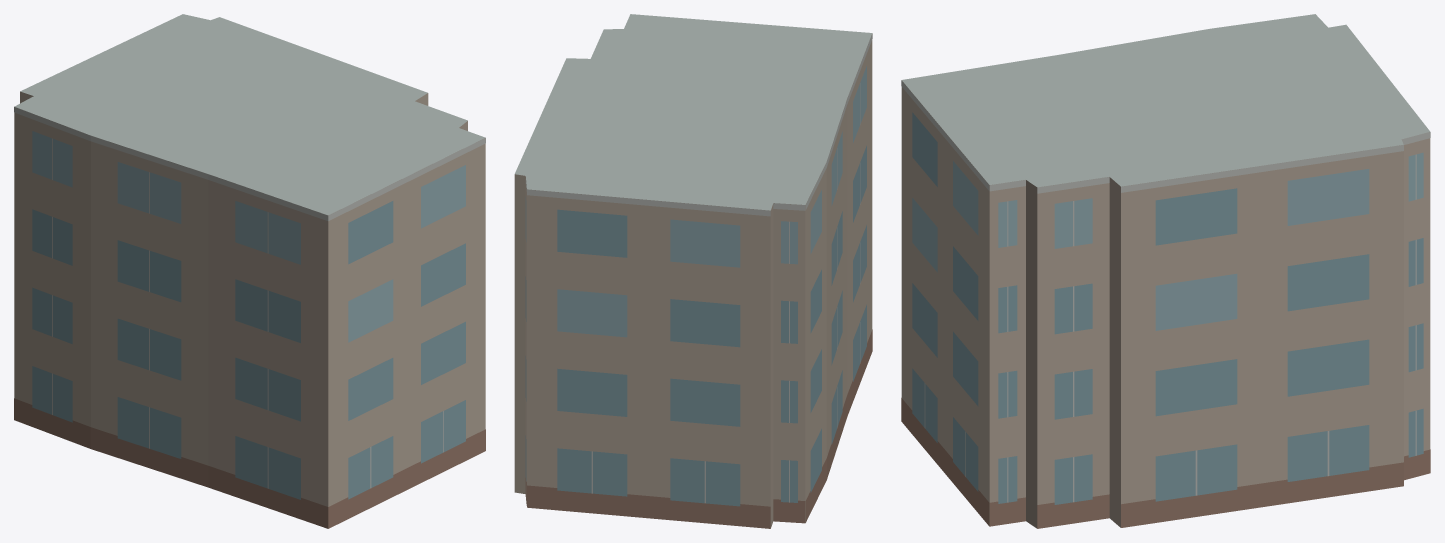
Rendered from survey-upis-32631963.glb.
3 views of the same model, side by side, from view 1: azimuth 30°, elevation 25°; view 2: azimuth 150°, elevation 25°; view 3: azimuth 270°, elevation 25° (orthographic). The views are drawn at different scales.
Parts seen in each view (by area): view 1: survey-upis-32631963.tmp; view 2: survey-upis-32631963.tmp; view 3: survey-upis-32631963.tmp.
Boxes of the visible parts, x1,y1,x2,y2 form: survey-upis-32631963.tmp: (14,14,485,528); survey-upis-32631963.tmp: (514,14,872,528); survey-upis-32631963.tmp: (901,14,1430,528).
Size of the model in its own units: 14.39 by 13.2 by 18.54.
